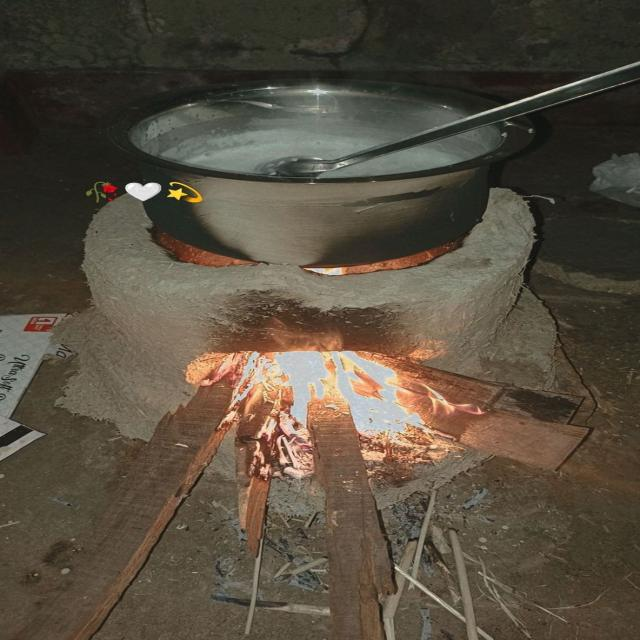fire: (334, 351, 425, 438), (275, 351, 330, 428)
